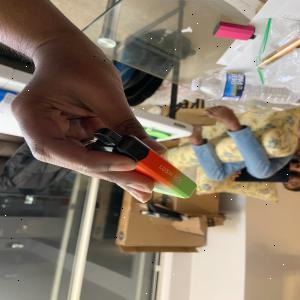Swift-E-Ciggirate: (85, 128, 198, 209)
